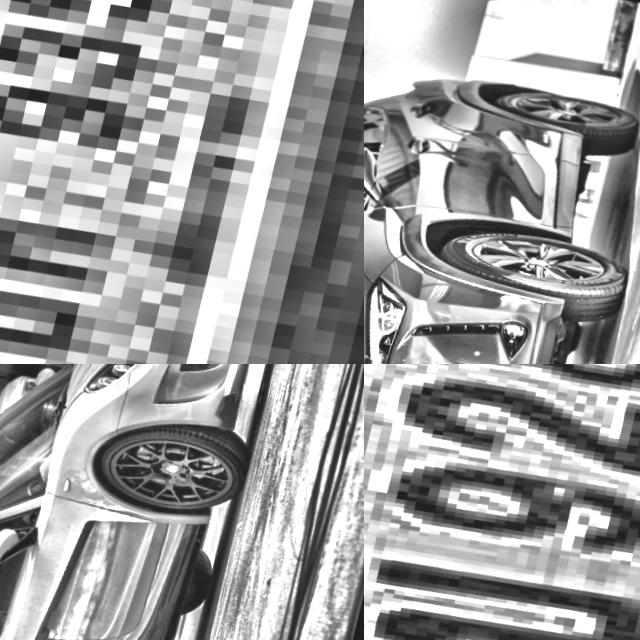license-plate: (0, 0, 364, 364), (364, 364, 640, 640)
